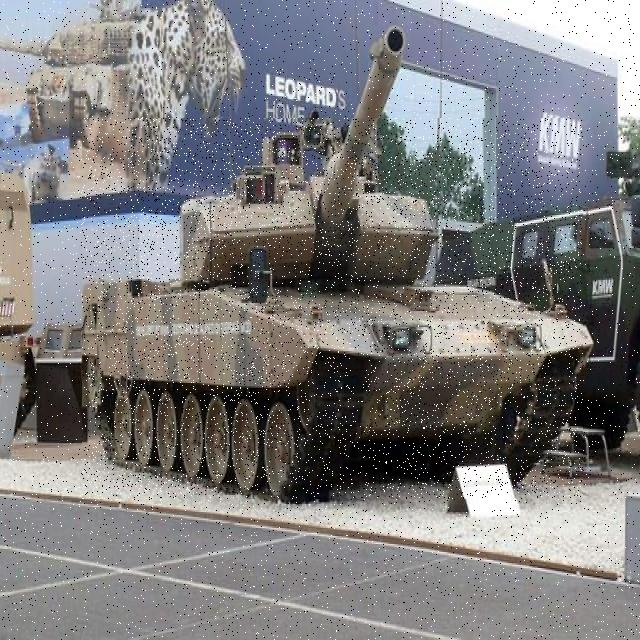MIL_MBT: (82, 119, 583, 498)
